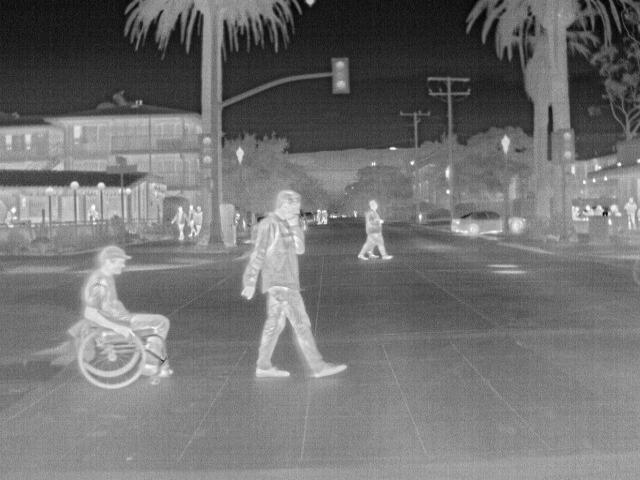car: (449, 210, 504, 237), (303, 210, 316, 222)
person: (239, 189, 351, 382), (82, 244, 175, 378), (356, 200, 399, 260), (172, 205, 187, 241), (622, 196, 638, 228), (3, 205, 20, 230), (184, 204, 197, 236), (193, 206, 206, 234), (86, 202, 102, 222), (595, 204, 608, 218), (582, 204, 596, 216), (314, 208, 323, 226), (321, 207, 329, 227)
